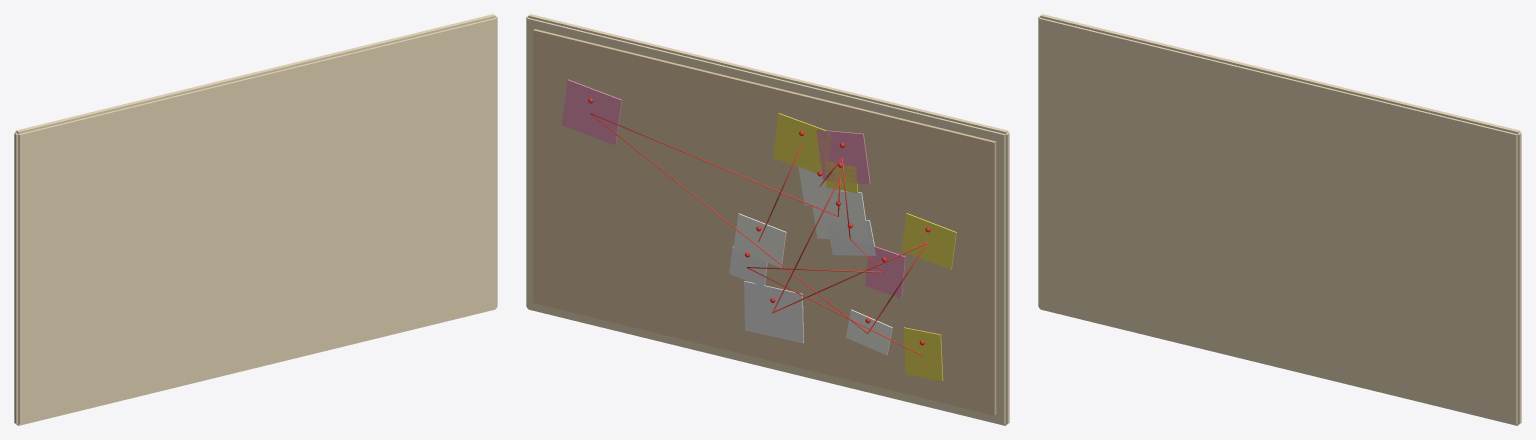
The model's file is corkboard.glb.
The picture shows the model from 3 angles, left to right: view 1: azimuth 30°, elevation 25°; view 2: azimuth 150°, elevation 25°; view 3: azimuth 330°, elevation 25°; orthographic projection.
Visible parts, largest first — view 1: corkboard; view 2: corkboard; view 3: corkboard.
Boxes of the visible parts, box(x1,y1,x2,y2) form: corkboard: box(14, 14, 497, 425); corkboard: box(526, 14, 1009, 425); corkboard: box(1038, 14, 1521, 425).
Size of the model in its own units: 2.4 by 1.4 by 0.082.
